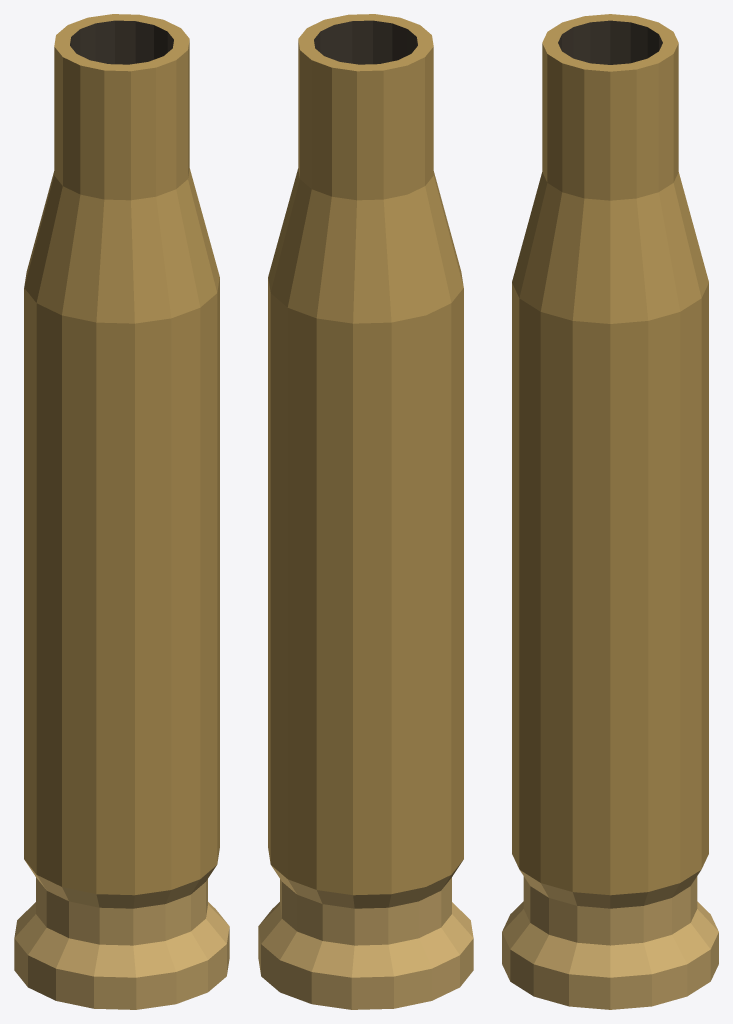
File: SniperRifle_SpentCase.glb
3 renders of one model, left to right at view 1: azimuth 30°, elevation 25°; view 2: azimuth 150°, elevation 25°; view 3: azimuth 270°, elevation 25°, orthographic.
Visible parts, largest first — view 1: SniperRifle_SpentCase; view 2: SniperRifle_SpentCase; view 3: SniperRifle_SpentCase.
Part boxes in pixels (x1,y1,x2,y2): SniperRifle_SpentCase: (14,14,229,1009); SniperRifle_SpentCase: (258,14,473,1009); SniperRifle_SpentCase: (502,14,718,1009).
Size of the model in its own units: 0.0143 by 0.0677 by 0.0143.
